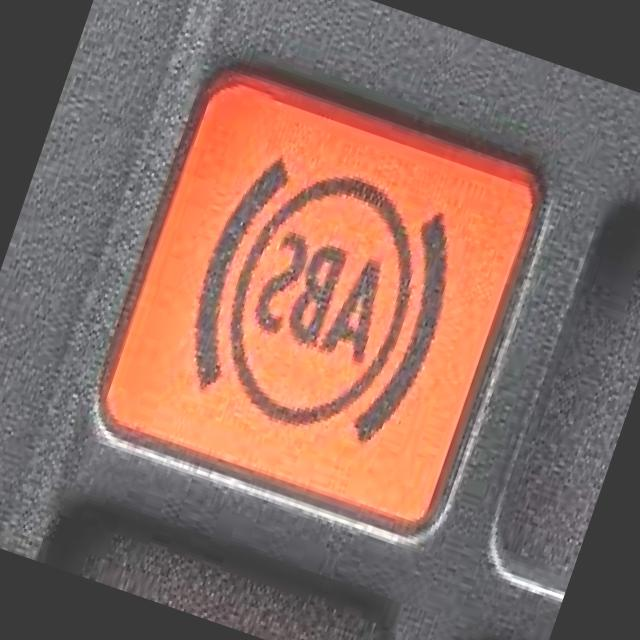kontrolka: (138, 122, 490, 484)
